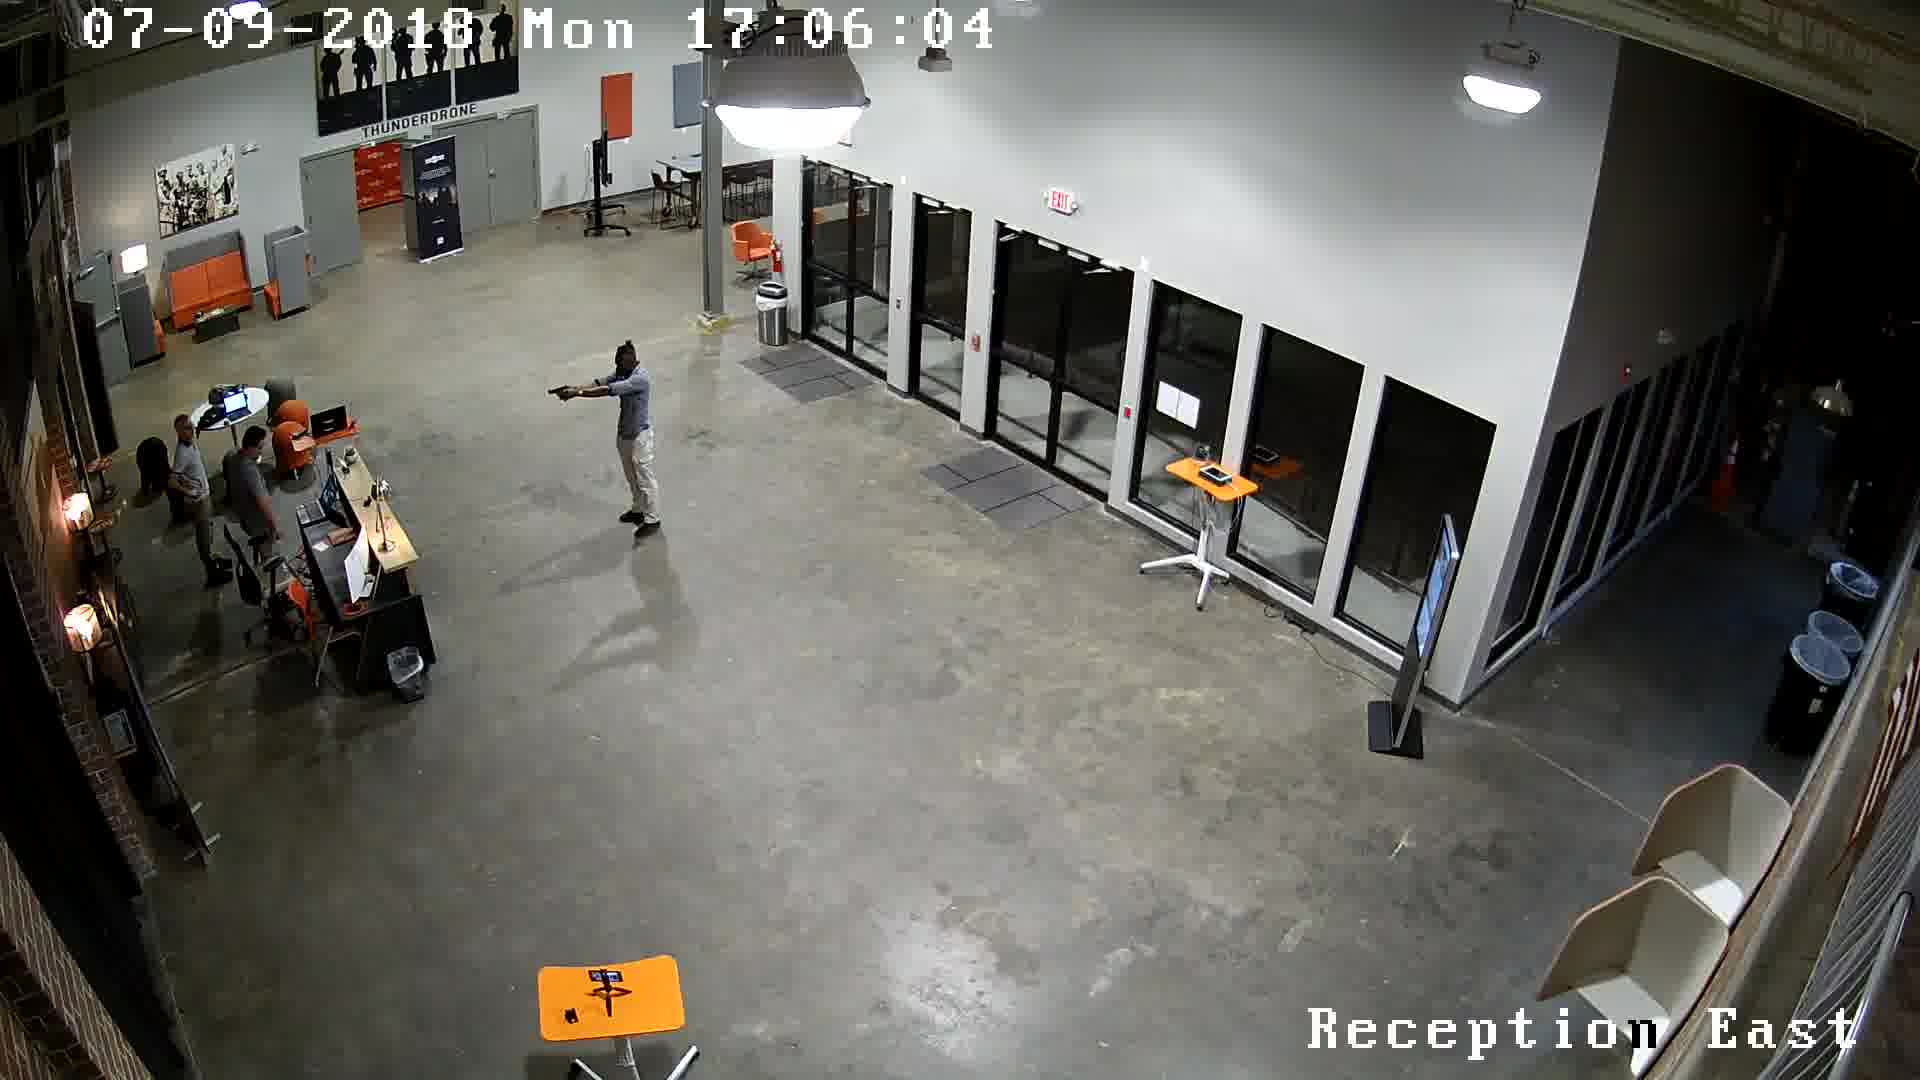pistol: (541, 353, 585, 419)
